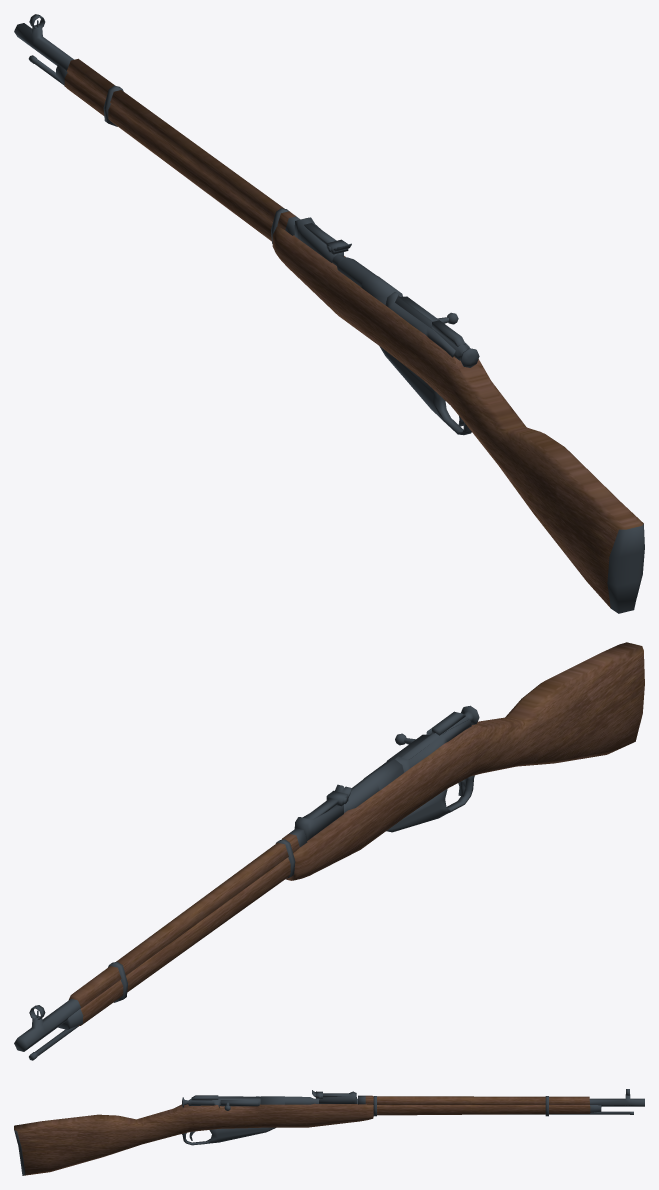
Rendered from tabasco-mosin9130.glb.
3 views of the same model, one above another, from view 1: azimuth 30°, elevation 25°; view 2: azimuth 150°, elevation 25°; view 3: azimuth 270°, elevation 25° (orthographic). The views are drawn at different scales.
Parts seen in each view (by area): view 1: Cube; view 2: Cube; view 3: Cube.
Part boxes in pixels (<box>): Cube: <box>14,14,644,613</box>; Cube: <box>14,642,644,1060</box>; Cube: <box>14,1089,644,1175</box>.
Bounding box in the file's own units: 0.4581 × 1.48 × 9.98.
3 materials, 1 textured.
